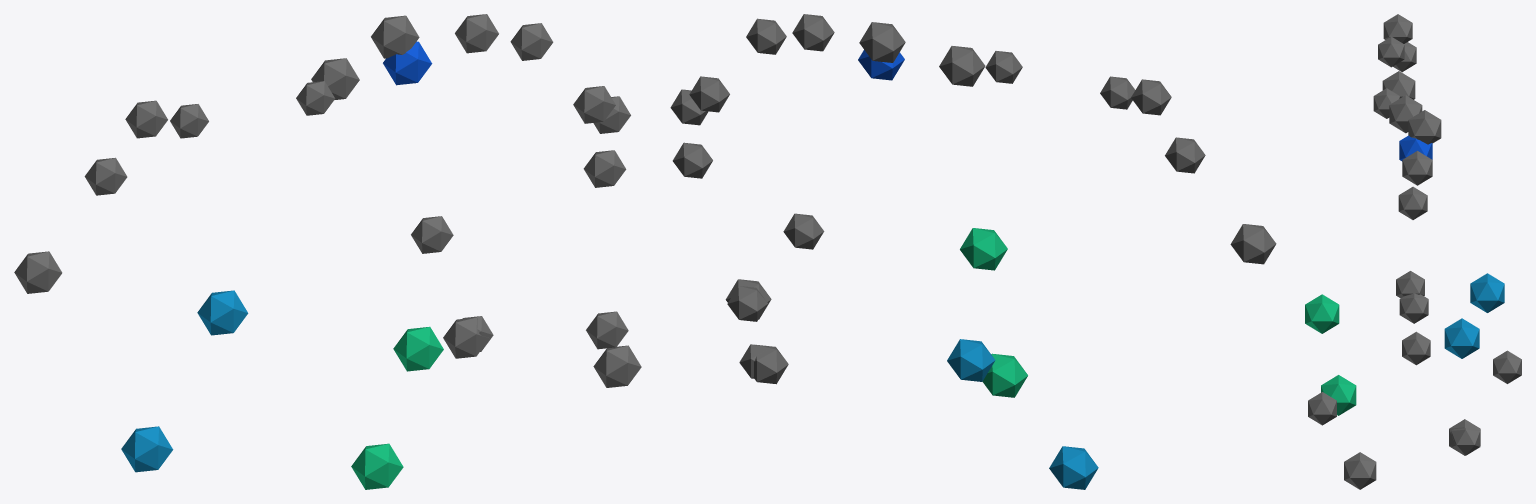
3 renders of one model, left to right at view 1: azimuth 30°, elevation 25°; view 2: azimuth 150°, elevation 25°; view 3: azimuth 270°, elevation 25°, orthographic. The views are drawn at different scales.
Visible parts, largest first — view 1: 09_09_01; view 2: 09_09_01; view 3: 09_09_01.
Boxes of the visible parts, x1,y1,x2,y2 form: 09_09_01: (14,14,641,489); 09_09_01: (670,14,1276,489); 09_09_01: (1305,14,1521,489).
Bounding box in the file's own units: 0.6522 × 0.4195 × 0.252.
